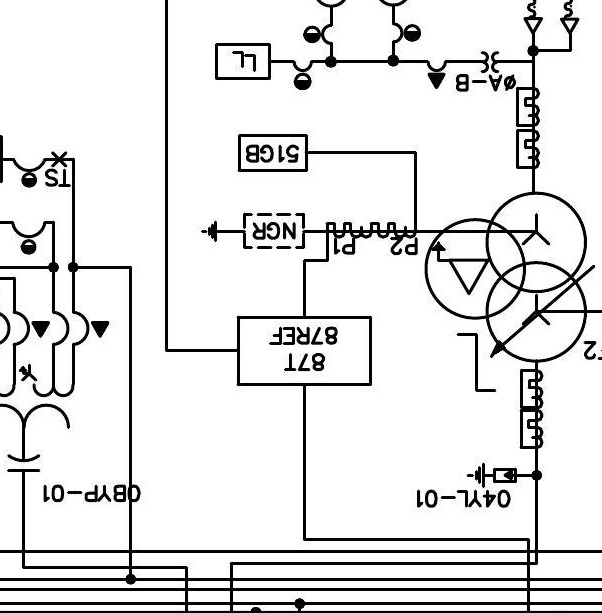11522_tx_ynyn0d1: (423, 190, 588, 364)
115_la: (466, 462, 518, 489)
LL: (214, 43, 272, 80)
NGR_future: (200, 212, 306, 249)
terminator_double: (523, 17, 580, 53)
